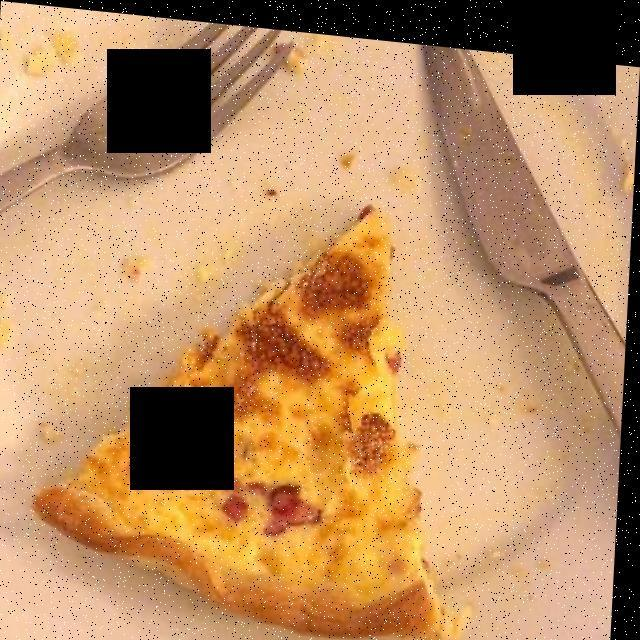quiche: (45, 226, 442, 624)
